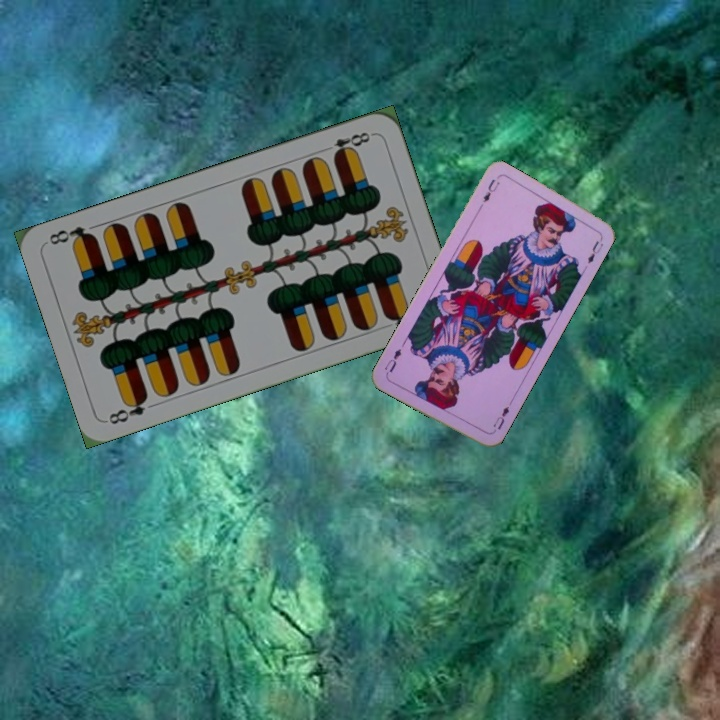E8: (104, 391, 151, 427), (329, 128, 376, 161)
EU: (489, 398, 513, 435), (479, 175, 502, 205)
